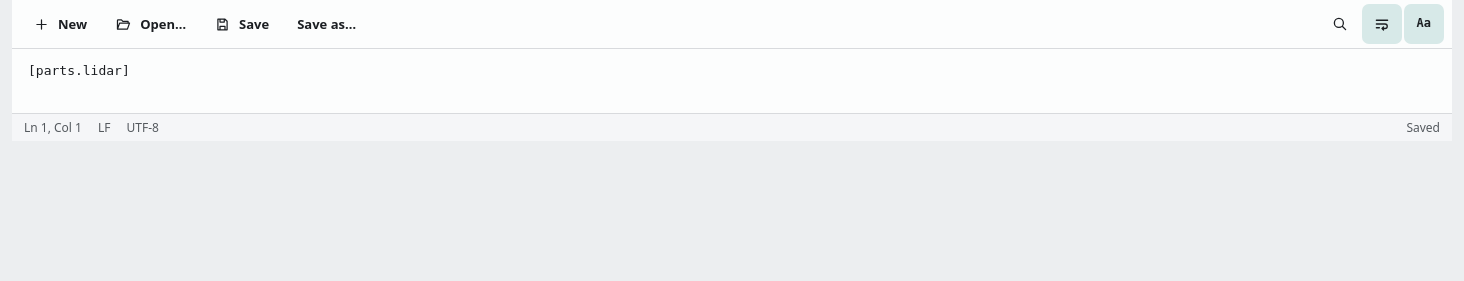
Test: Notes › keeps the text unsaved and shows the line when parts.toml is refused
Type "port" into the text box named "Text of" at (732, 81), box [12,49,1452,113]
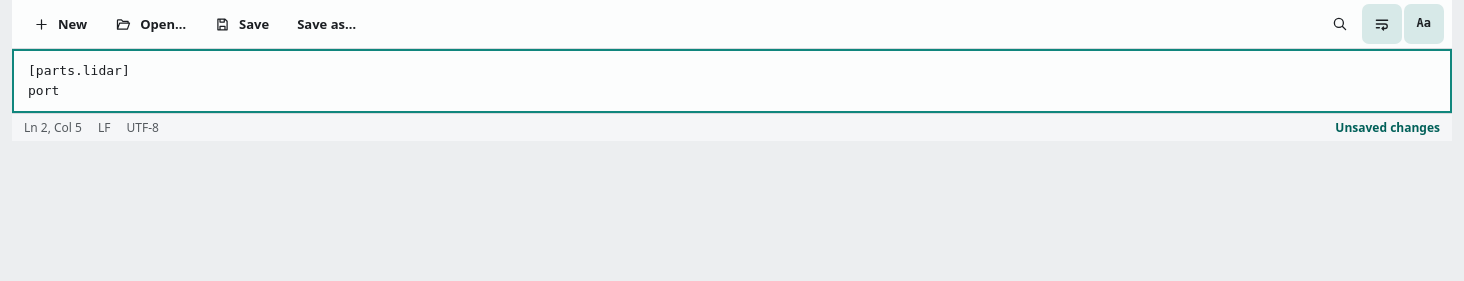
Click the button "Save" at (242, 24), box [201,4,282,44]
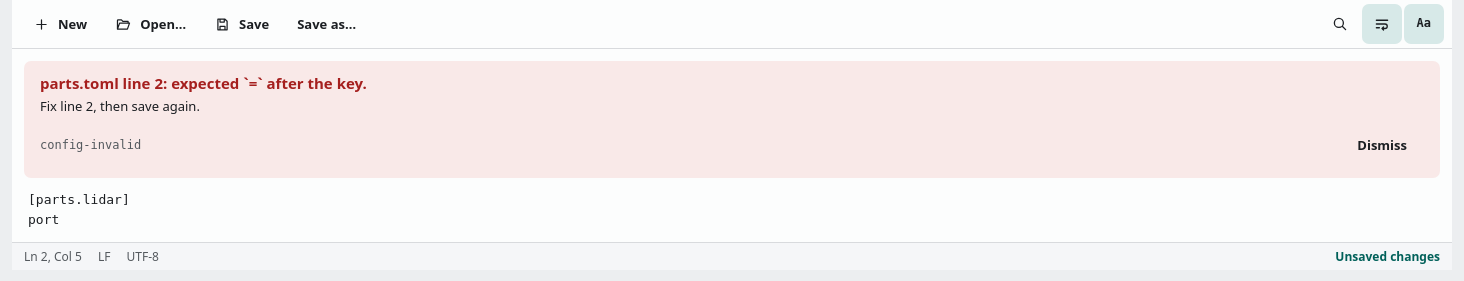
Expected: the text "parts.toml line 2: expected `=` after the key." is shown, [40,73,367,93]
Expected: the text "Fix line 2, then save again." is shown, [40,97,200,115]
